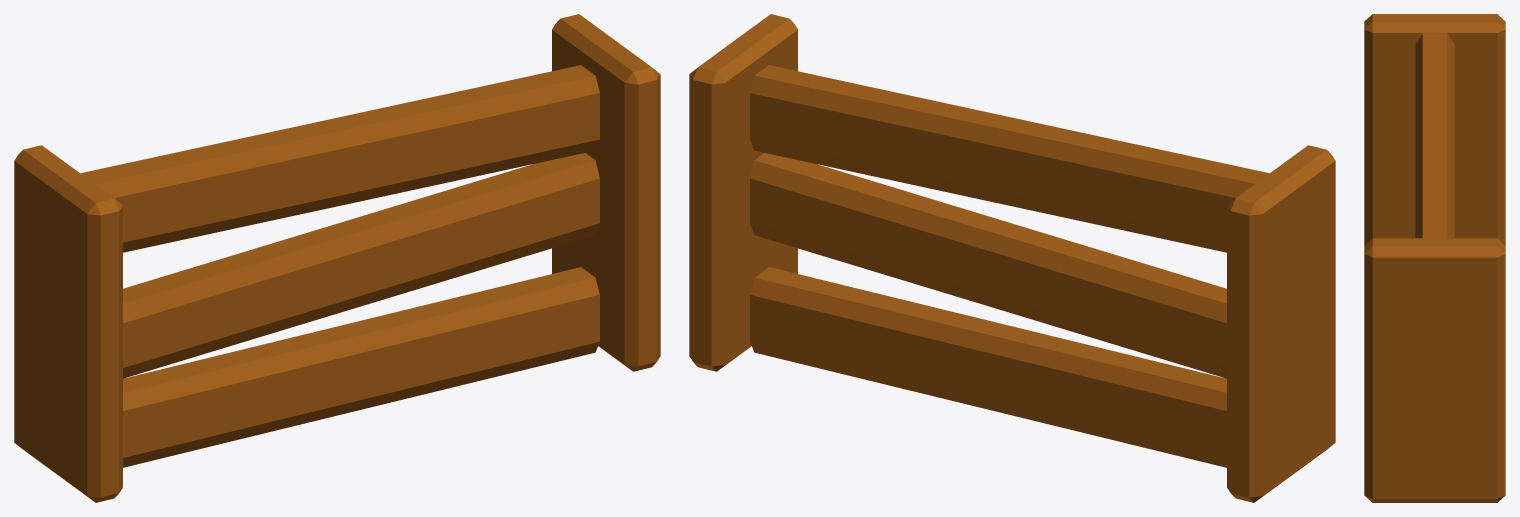
The model's file is Barrier.fbx.
The picture shows the model from 3 angles, left to right: view 1: azimuth 30°, elevation 25°; view 2: azimuth 150°, elevation 25°; view 3: azimuth 270°, elevation 25°; orthographic projection. The views are drawn at different scales.
Visible parts, largest first — view 1: Cube.001, Cube.004, Cube.003, Cube.002; view 2: Cube.001, Cube.004, Cube.003, Cube.002; view 3: Cube.001, Cube.004.
Part boxes in pixels (x1=…): Cube.001: x1=14, y1=14, x2=660, y2=502; Cube.004: x1=80, y1=65, x2=599, y2=252; Cube.003: x1=123, y1=153, x2=599, y2=378; Cube.002: x1=123, y1=267, x2=599, y2=467; Cube.001: x1=689, y1=14, x2=1335, y2=502; Cube.004: x1=750, y1=65, x2=1269, y2=252; Cube.003: x1=750, y1=153, x2=1226, y2=378; Cube.002: x1=750, y1=267, x2=1226, y2=467; Cube.001: x1=1364, y1=14, x2=1505, y2=502; Cube.004: x1=1415, y1=33, x2=1454, y2=238.
Bounding box in the file's own units: 3.12 × 1.56 × 0.78.
Materials: 1 (1 with a texture image).
